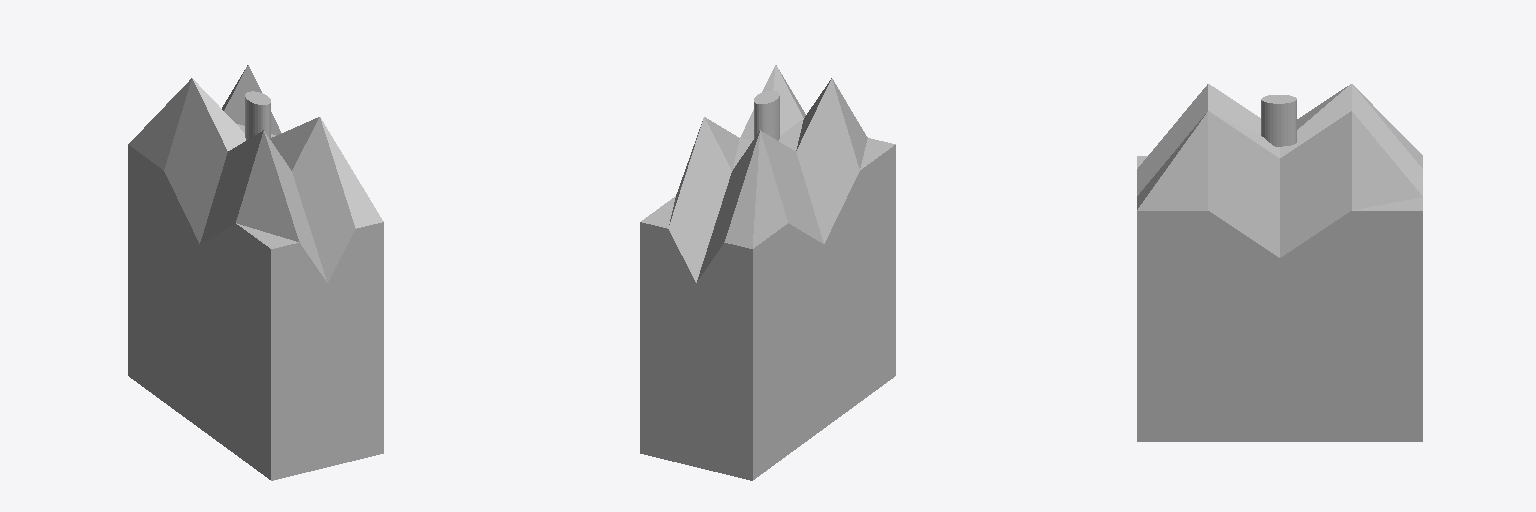
The model's file is Cologne.obj.
3 renders of one model, left to right at view 1: azimuth 30°, elevation 25°; view 2: azimuth 150°, elevation 25°; view 3: azimuth 270°, elevation 25°, orthographic.
Visible parts, largest first — view 1: Cylinder; view 2: Cylinder; view 3: Cylinder.
Boxes of the visible parts, x1,y1,x2,y2 form: Cylinder: [128, 65, 383, 480]; Cylinder: [640, 65, 895, 480]; Cylinder: [1137, 84, 1422, 441].
Size of the model in its own units: 0.4338 by 1.17 by 0.9584.